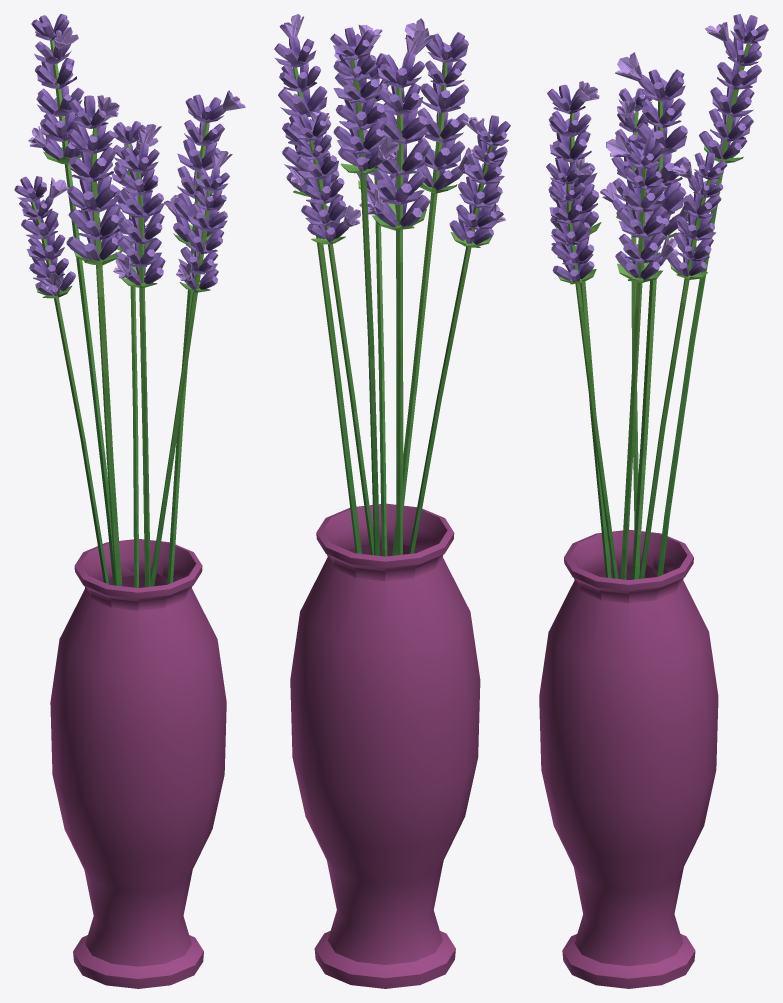
Rendered from sh_scopia_lavender.glb.
3 renders of one model, left to right at view 1: azimuth 30°, elevation 25°; view 2: azimuth 150°, elevation 25°; view 3: azimuth 270°, elevation 25°, orthographic. The views are drawn at different scales.
Bounding box in the file's own units: 0.134 × 0.535 × 0.12.
6 materials, 5 textured.
